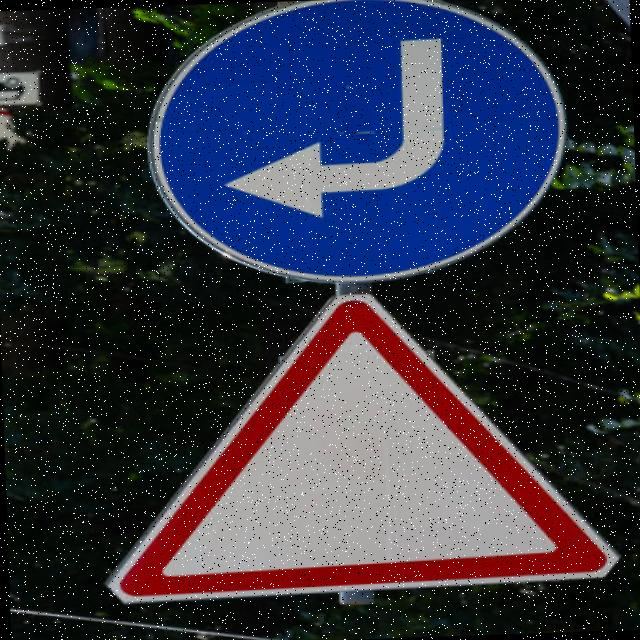give_way: (91, 286, 640, 619)
